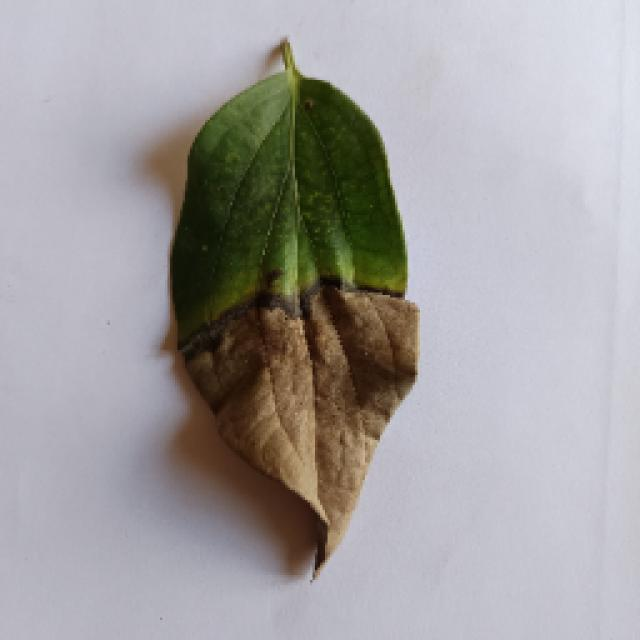footrot: (165, 42, 420, 582)
